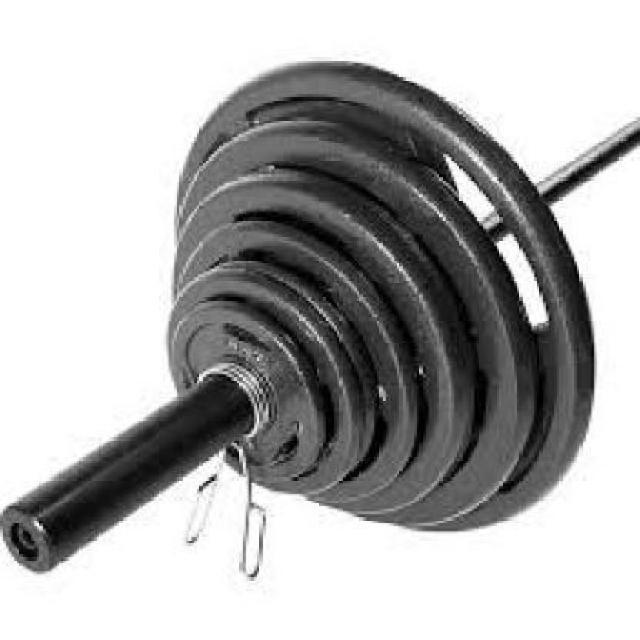Barbell: (3, 474, 83, 586)
